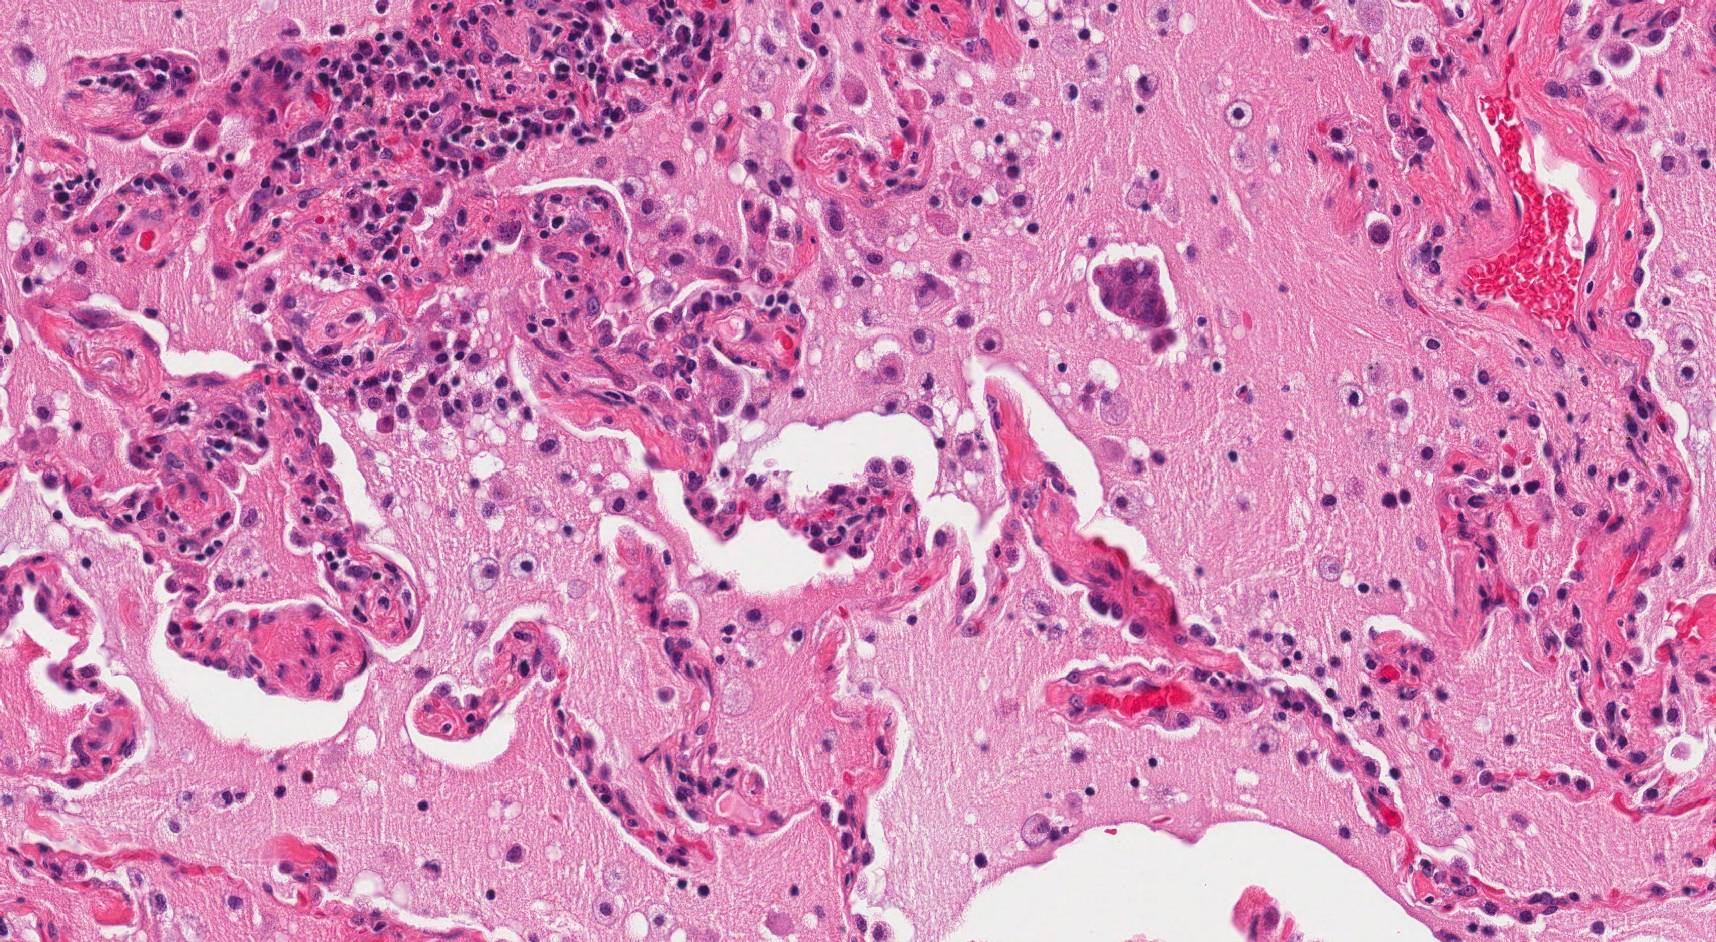stas: (1095, 257, 1169, 325)
